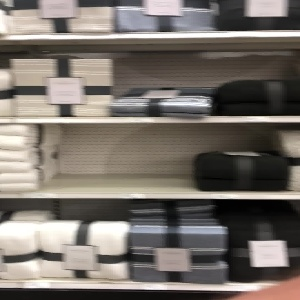void: (45, 124, 192, 191)
